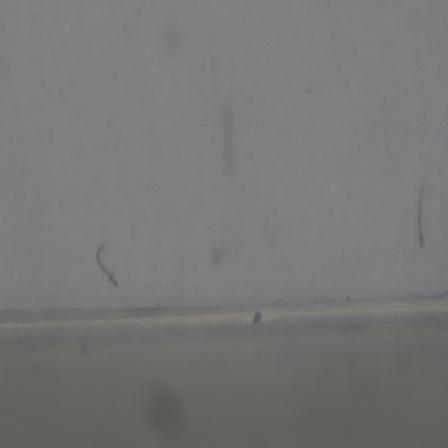Jentik-Nyamuk: (93, 239, 120, 291)
